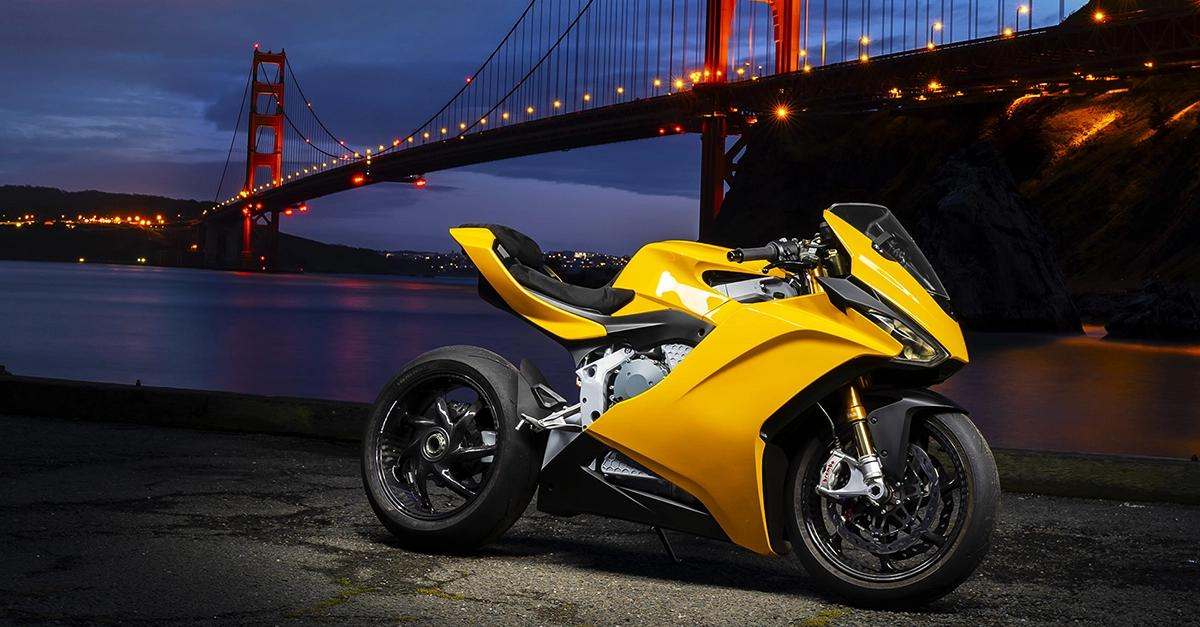motorcycle: (363, 199, 1013, 614)
